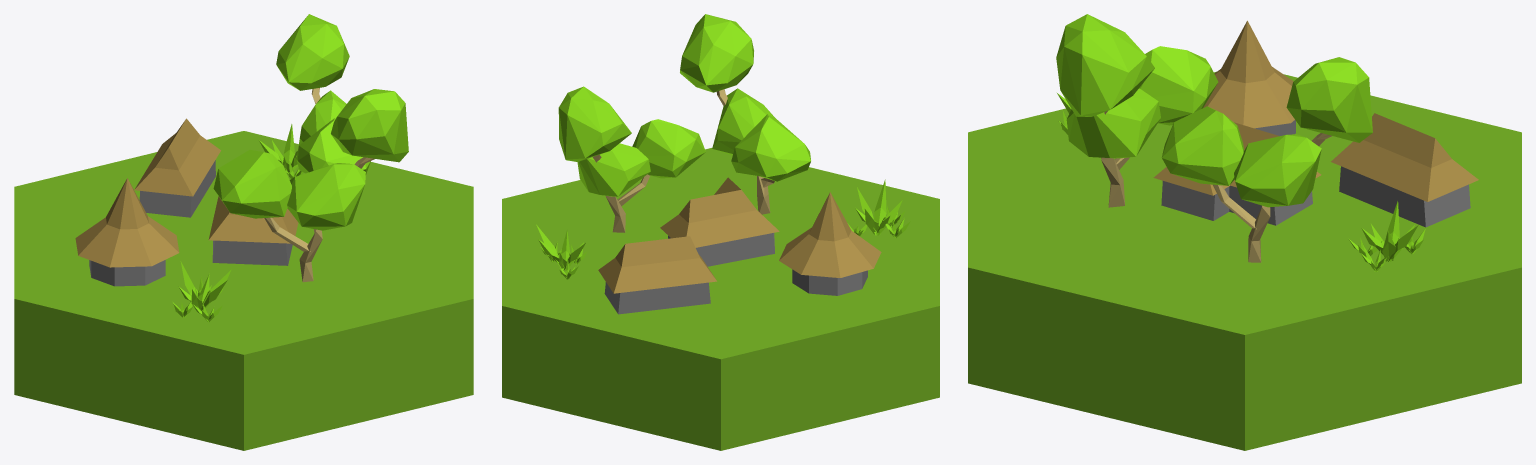
File: Casas_Selva_3.fbx
The picture shows the model from 3 angles, left to right: view 1: azimuth 30°, elevation 25°; view 2: azimuth 150°, elevation 25°; view 3: azimuth 270°, elevation 25°; orthographic projection. The views are drawn at different scales.
Parts seen in each view (by area): view 1: Casas_Selva_3; view 2: Casas_Selva_3; view 3: Casas_Selva_3.
Part boxes in pixels (left/top/right/bottom): Casas_Selva_3: left=14, top=14, right=473, bottom=450; Casas_Selva_3: left=502, top=14, right=939, bottom=450; Casas_Selva_3: left=968, top=14, right=1521, bottom=450.
Size of the model in its own units: 200 by 115 by 173.
